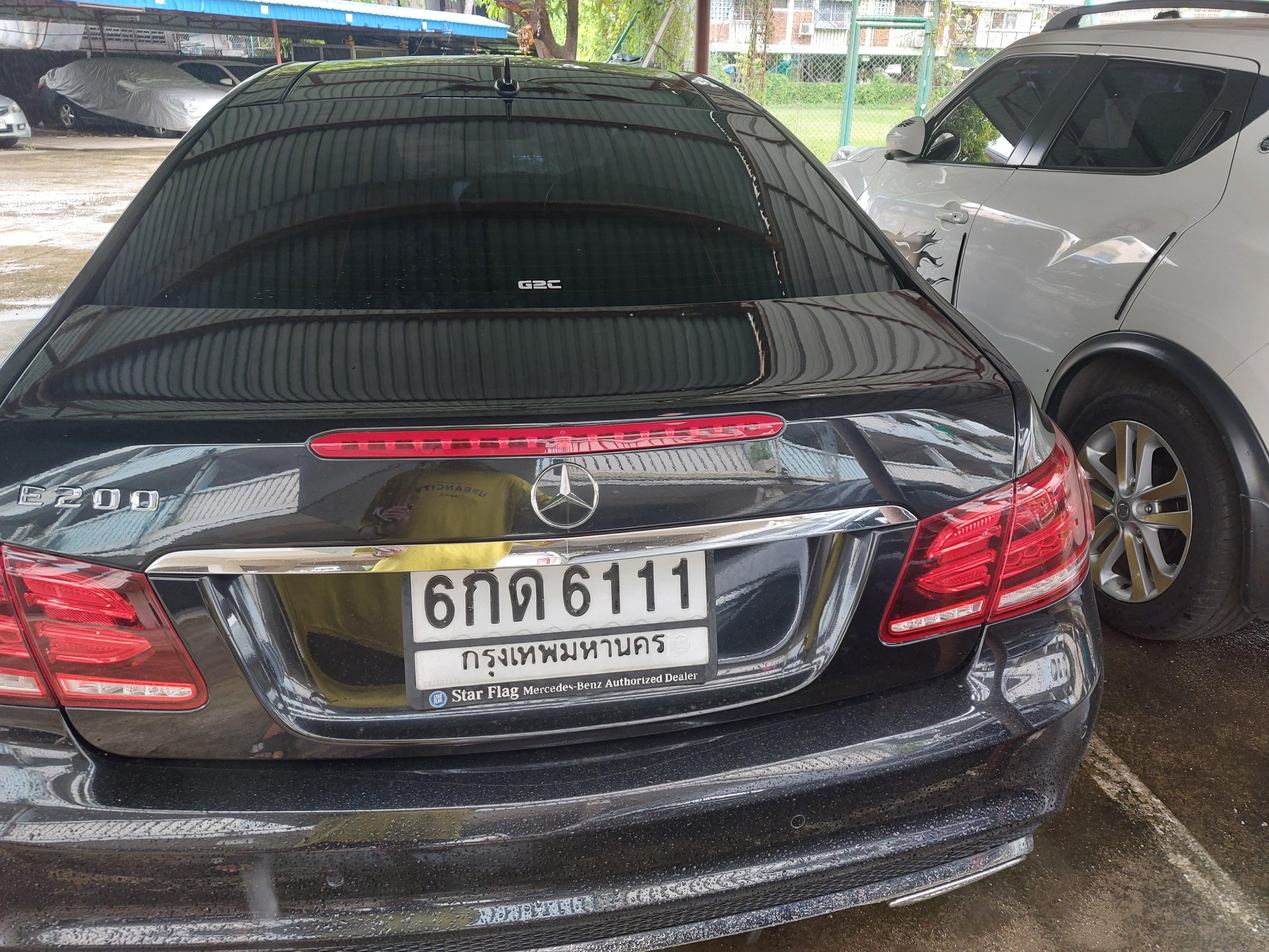license-plate: (395, 545, 721, 713)
